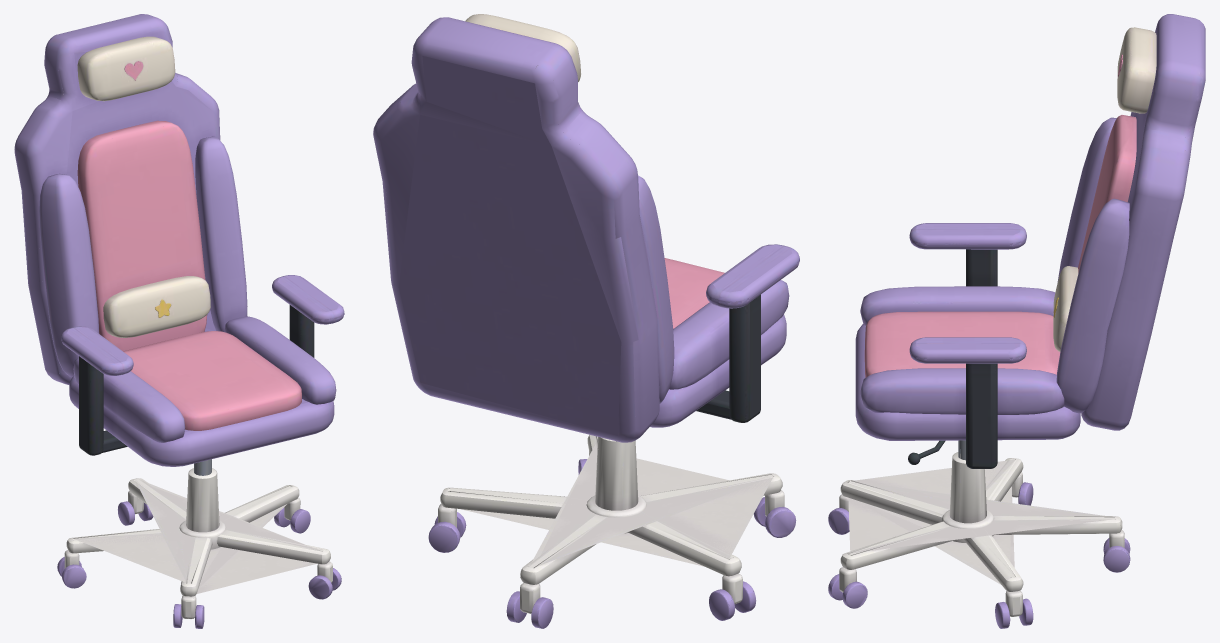
The model's file is silla_gamer.glb.
The picture shows the model from 3 angles, left to right: view 1: azimuth 30°, elevation 25°; view 2: azimuth 150°, elevation 25°; view 3: azimuth 270°, elevation 25°; orthographic projection. The views are drawn at different scales.
Parts seen in each view (by area): view 1: gaming-chair_body; view 2: gaming-chair_body; view 3: gaming-chair_body.
Boxes of the visible parts, x1,y1,x2,y2 form: gaming-chair_body: (14,14,344,628); gaming-chair_body: (373,14,799,628); gaming-chair_body: (828,14,1205,628).
Size of the model in its own units: 0.7051 by 1.29 by 0.8383.
2 materials, 2 textured.
